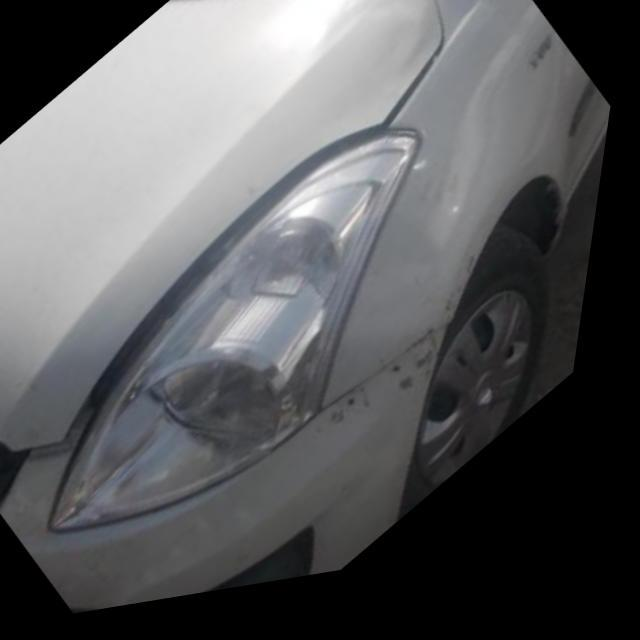crack: (331, 271, 491, 462)
dent: (320, 0, 429, 92)
dislocated part: (29, 51, 444, 469)
